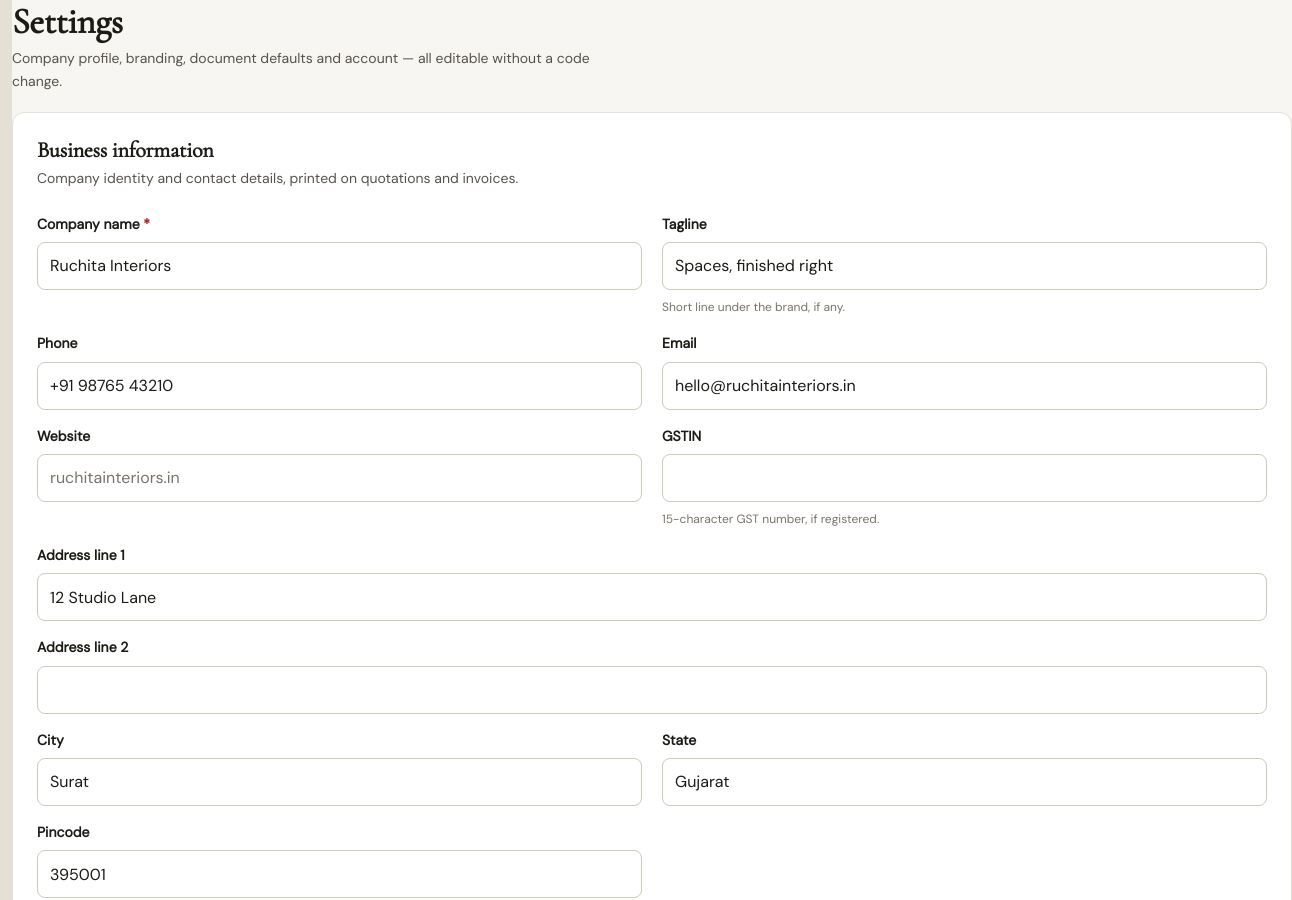
Test: settings page › saves one section without sending another section's fields
Check: the heading "Business information" is shown, box [37, 137, 213, 163]
Replace the text in the field labelled "Company name *" with "Ruchita Interiors Pvt Ltd" at [340, 266], box [37, 242, 642, 290]
(page scrolled)
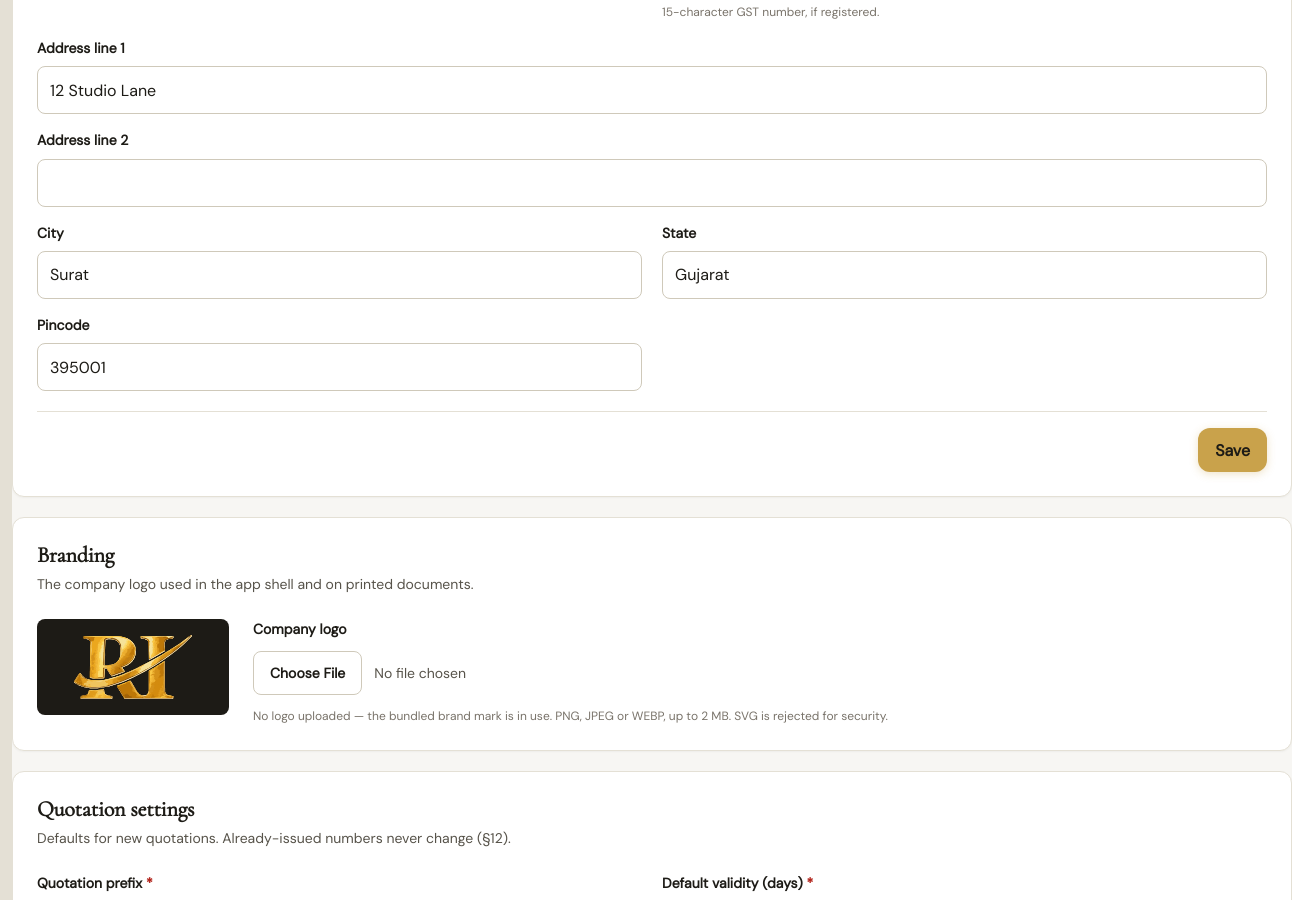
Click the button "Save" at [1233, 450], box [1198, 428, 1267, 472]
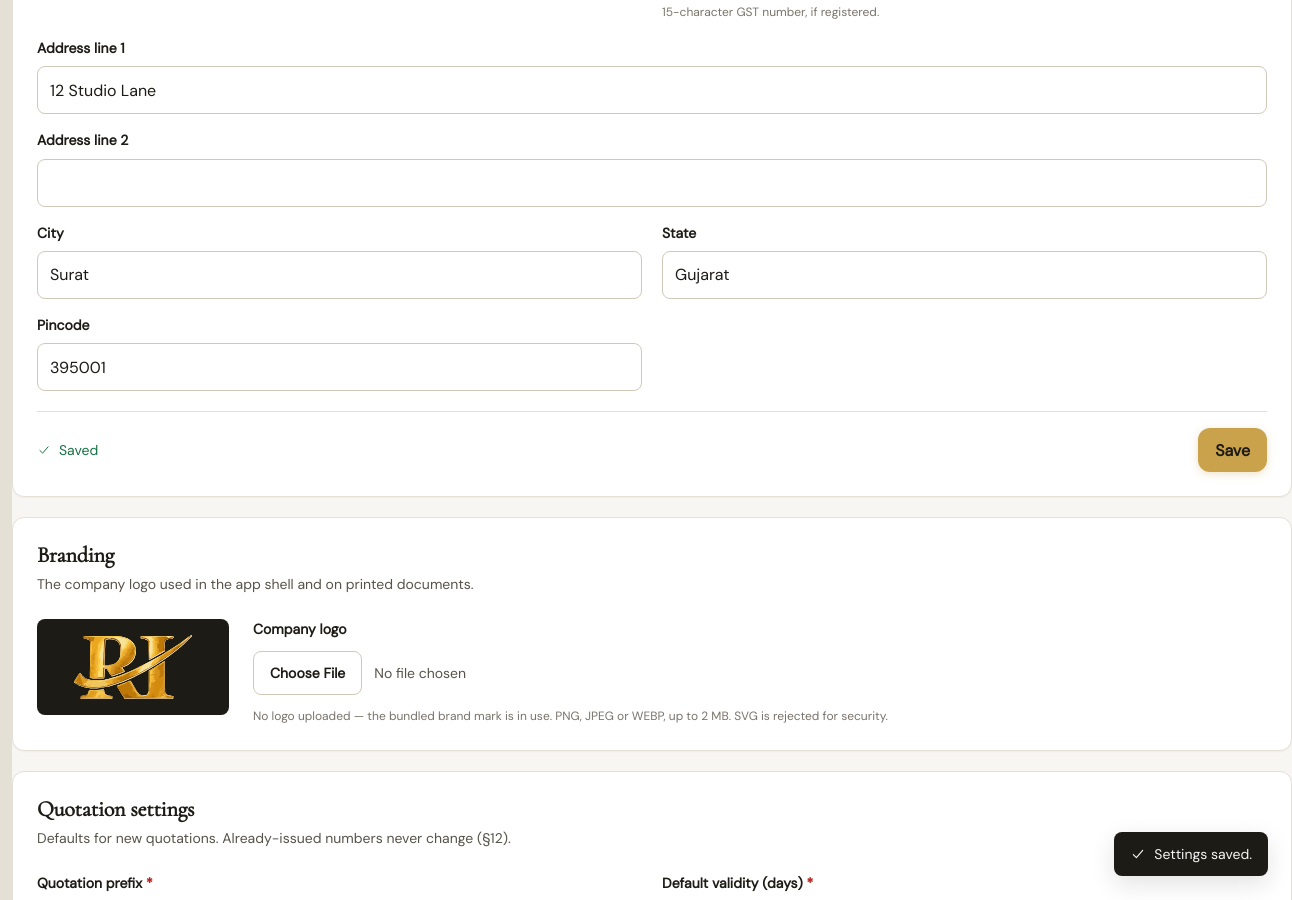
Check: the text "Settings saved." is shown, box [1154, 844, 1252, 864]
